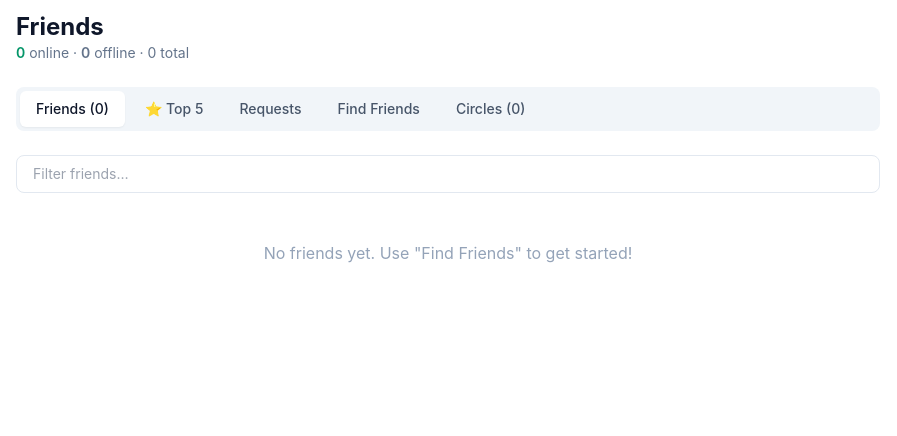
Friends page request flow › renders the Top 5 tab with existing top friends
Click the button "⭐ Top 5": {"x": 174, "y": 109} [129,91,219,127]
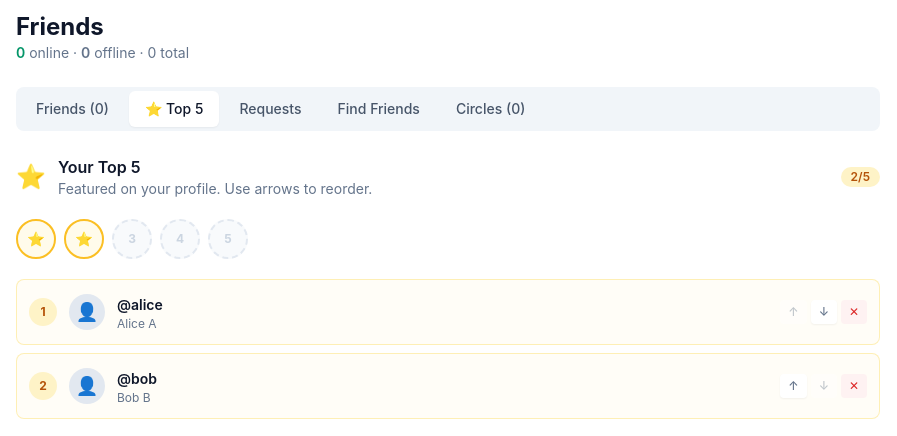
Now the text "@alice" is shown, box [117,296,163,313]
Now the text "@bob" is shown, box [117,370,157,387]
Now the text "2/5" is shown, box [841,167,880,187]
